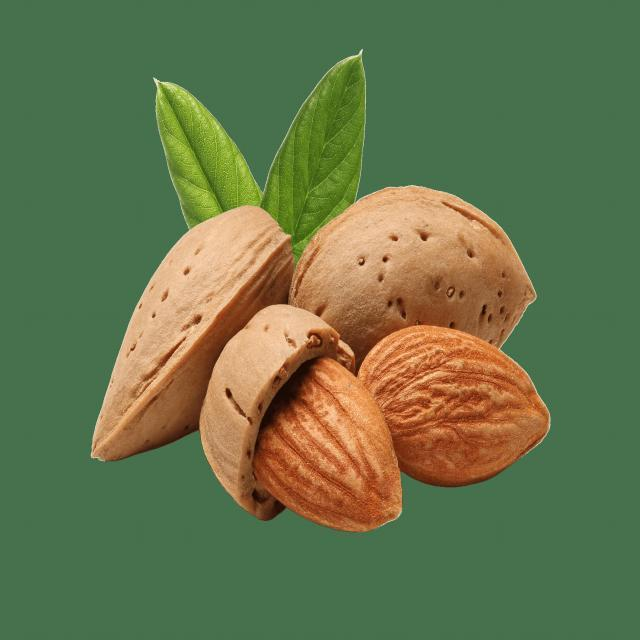almond: (362, 327, 553, 487), (252, 353, 407, 530)
